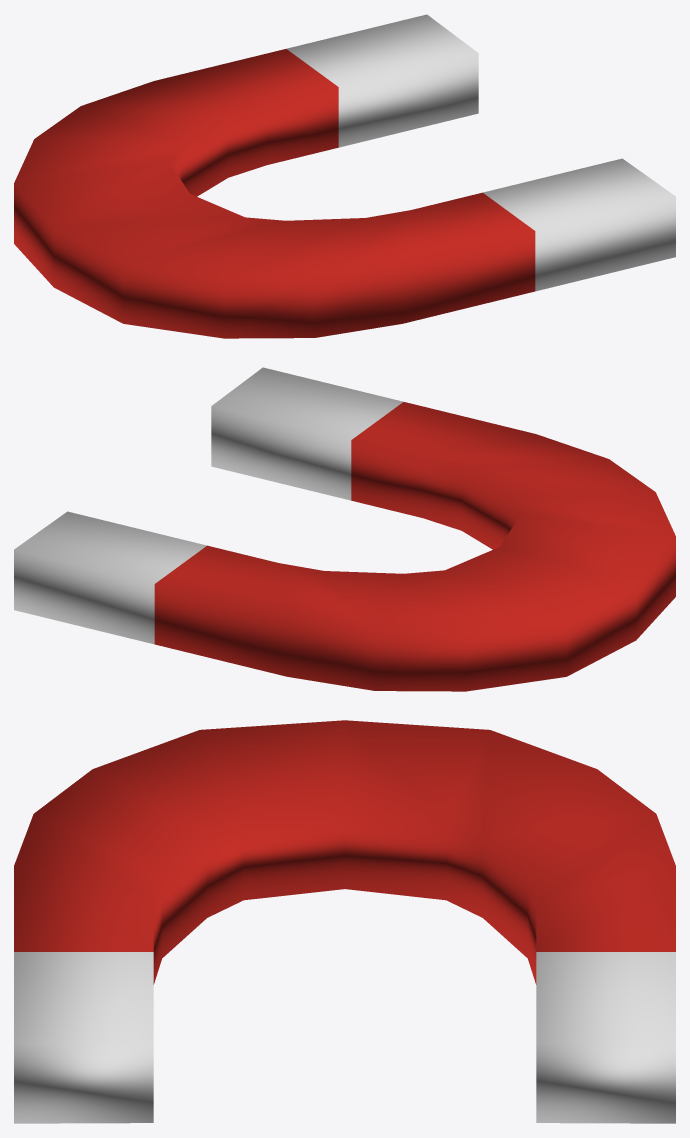
The model's file is Magnet.fbx.
3 renders of one model, top to bottom at view 1: azimuth 30°, elevation 25°; view 2: azimuth 150°, elevation 25°; view 3: azimuth 270°, elevation 25°, orthographic. The views are drawn at different scales.
Parts seen in each view (by area): view 1: pCube1; view 2: pCube1; view 3: pCube1.
Part boxes in pixels (bbox=[...]): pCube1: bbox=[14, 14, 675, 338]; pCube1: bbox=[14, 367, 675, 691]; pCube1: bbox=[14, 720, 675, 1123].
Bounding box in the file's own units: 29.79 × 3.46 × 25.81.
